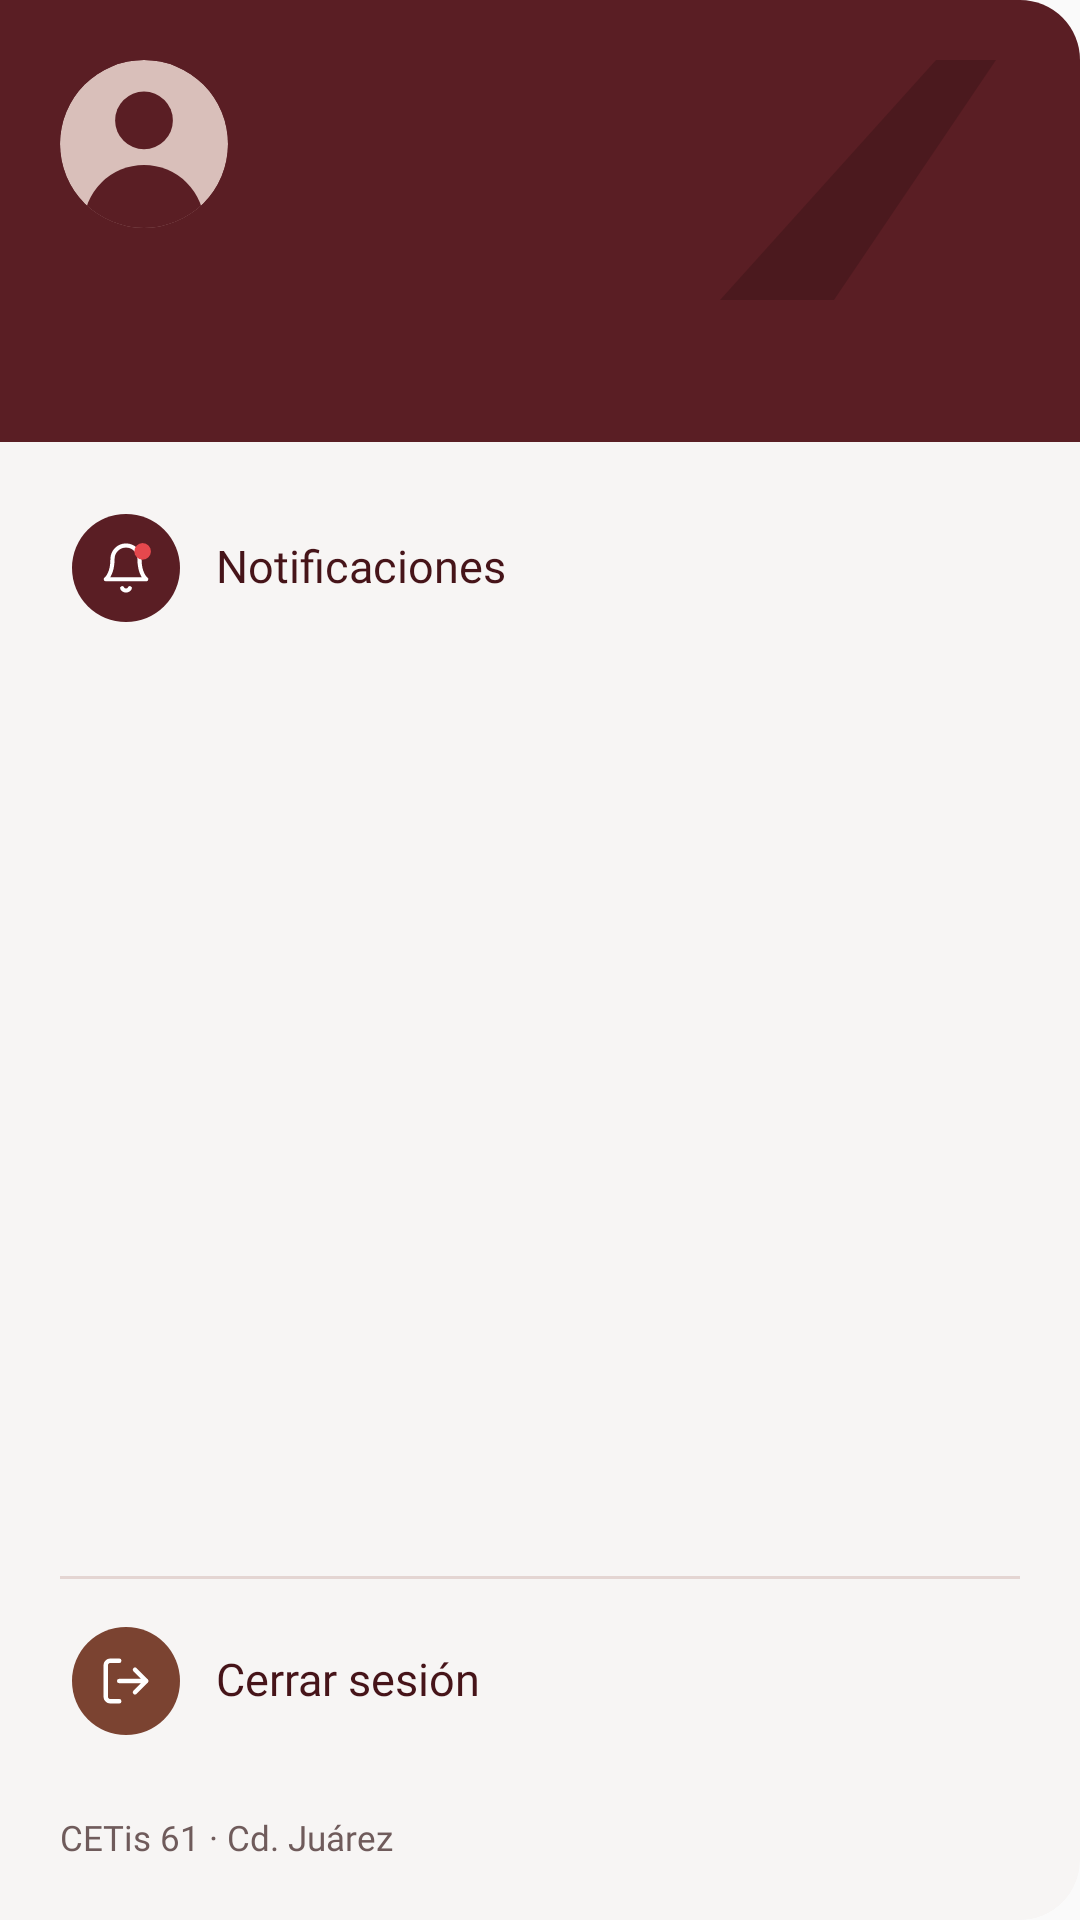

Where icons sit on this 1080 x 1920 app screen, as bbox=(x1, y1, x2, y2):
bell badge: bbox=(103, 543, 151, 593)
log out: bbox=(103, 1658, 149, 1704)
